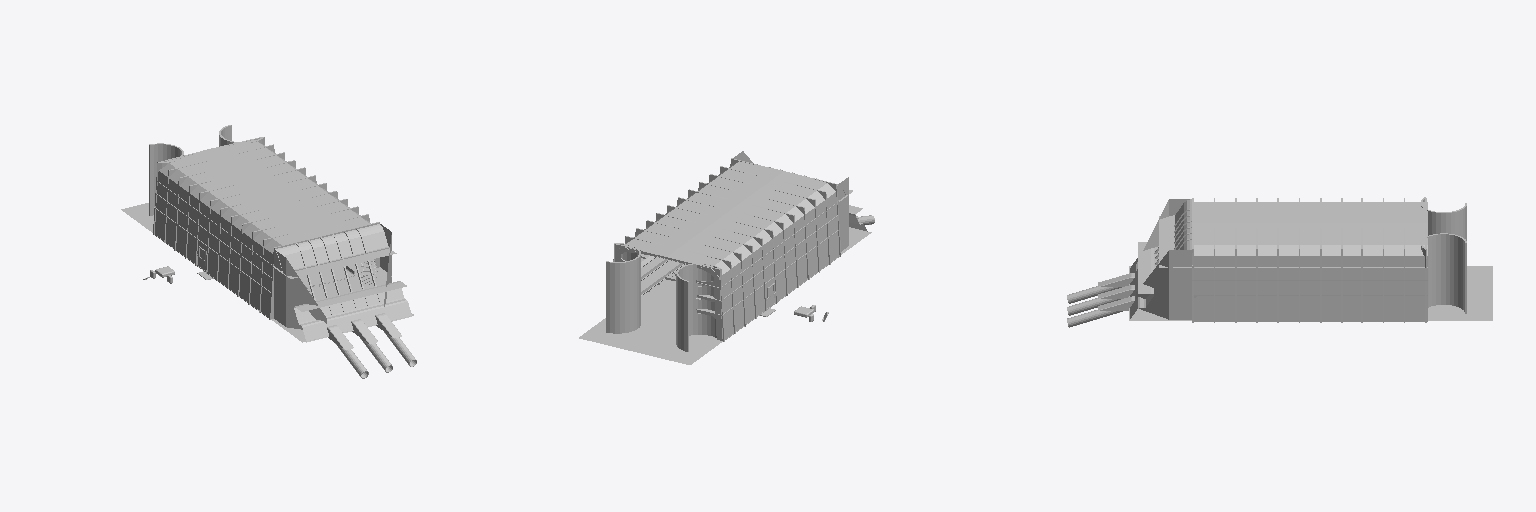
Rendered from TradeCenter.obj.
The picture shows the model from 3 angles: view 1: azimuth 30°, elevation 25°; view 2: azimuth 150°, elevation 25°; view 3: azimuth 270°, elevation 25°; orthographic projection.
Parts seen in each view (by area): view 1: spanel3, silver, stucco, spanel4, thickgrasspale, grey; view 2: silver, spanel3, spanel4, thickgrasspale, stucco, wpanels; view 3: spanel3, silver, spanel4, thickgrasspale, grey, stucco.
Part boxes in pixels (left/top/right/bottom): spanel3: left=155, top=171, right=411, bottom=349; silver: left=159, top=139, right=381, bottom=319; stucco: left=154, top=181, right=391, bottom=300; spanel4: left=149, top=125, right=264, bottom=215; thickgrasspale: left=121, top=203, right=413, bottom=342; grey: left=335, top=332, right=416, bottom=378; silver: left=619, top=158, right=840, bottom=333; spanel3: left=613, top=151, right=867, bottom=339; spanel4: left=606, top=243, right=721, bottom=351; thickgrasspale: left=579, top=227, right=871, bottom=364; stucco: left=641, top=195, right=848, bottom=331; wpanels: left=613, top=244, right=724, bottom=341; spanel3: left=1098, top=199, right=1427, bottom=321; silver: left=1154, top=198, right=1427, bottom=322; spanel4: left=1420, top=197, right=1466, bottom=313; thickgrasspale: left=1129, top=266, right=1492, bottom=320; grey: left=1067, top=286, right=1122, bottom=327; stucco: left=1154, top=215, right=1427, bottom=295.
Size of the model in its own units: 126 by 66 by 275.